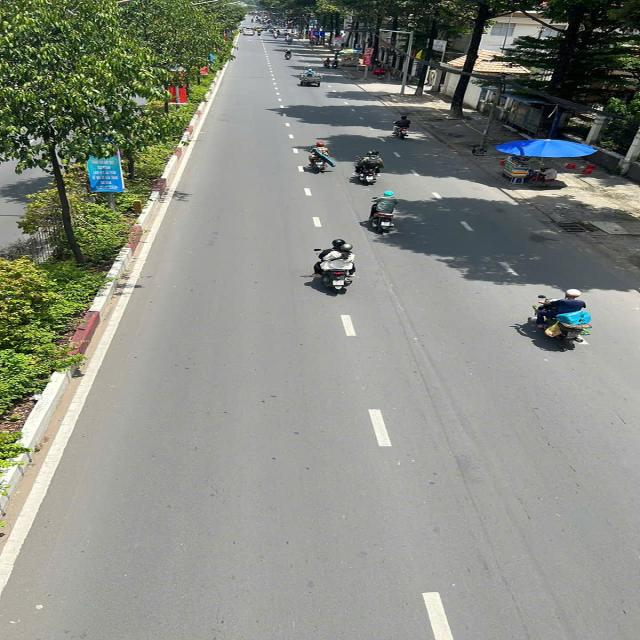car: (242, 26, 255, 38)
motobyte: (528, 287, 595, 350), (308, 238, 362, 295), (366, 189, 403, 236), (353, 149, 388, 185), (306, 139, 338, 174), (391, 112, 417, 141), (322, 54, 342, 71), (269, 25, 283, 41), (282, 46, 295, 60), (255, 26, 266, 40)
